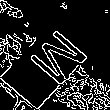M_SE: (20, 21, 90, 89)
